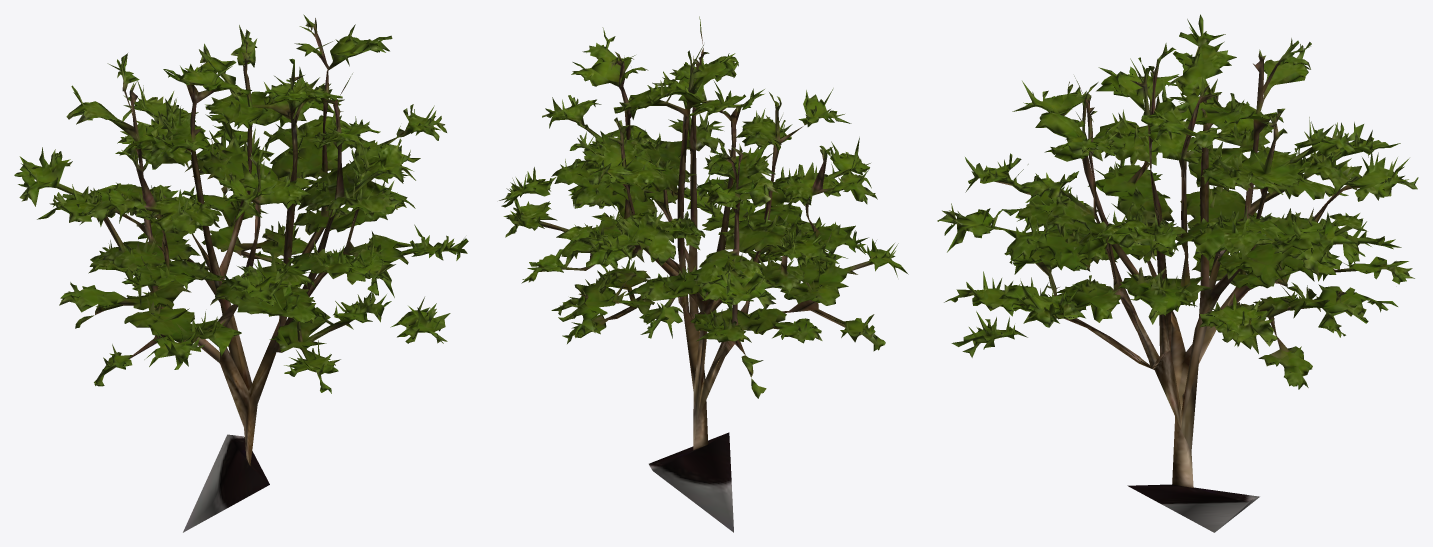
File: tree_pot_lod1.glb
The picture shows the model from 3 angles, left to right: view 1: azimuth 30°, elevation 25°; view 2: azimuth 150°, elevation 25°; view 3: azimuth 270°, elevation 25°; orthographic projection. The views are drawn at different scales.
Visible parts, largest first — view 1: tripo_node_1b0d959a-7cf9-4ce7-a38e-07beb3e64792; view 2: tripo_node_1b0d959a-7cf9-4ce7-a38e-07beb3e64792; view 3: tripo_node_1b0d959a-7cf9-4ce7-a38e-07beb3e64792.
Boxes of the visible parts, left/top/right/bottom form: tripo_node_1b0d959a-7cf9-4ce7-a38e-07beb3e64792: left=14, top=14, right=468, bottom=532; tripo_node_1b0d959a-7cf9-4ce7-a38e-07beb3e64792: left=499, top=16, right=908, bottom=532; tripo_node_1b0d959a-7cf9-4ce7-a38e-07beb3e64792: left=937, top=14, right=1418, bottom=532.
Size of the model in its own units: 0.8621 by 1.09 by 0.919.
1 material, 1 textured.
